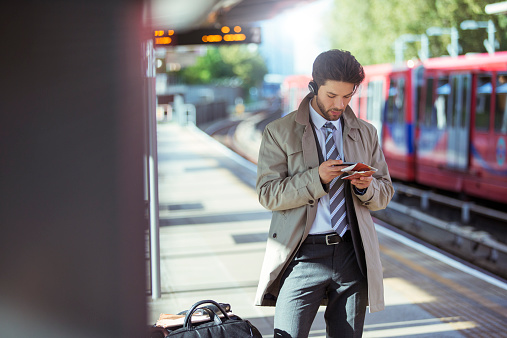em pe: (255, 52, 380, 338)
